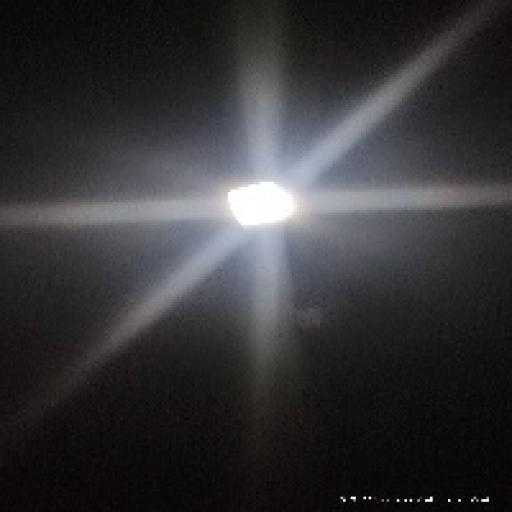Working: (208, 168, 309, 246)
